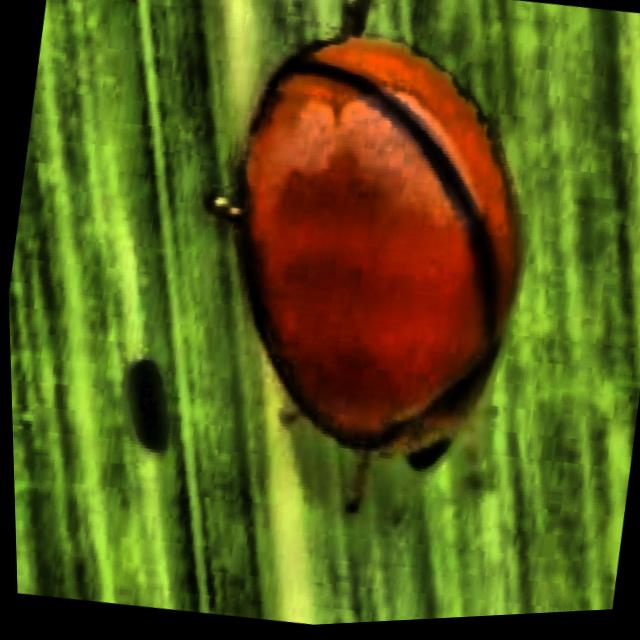Ladybug: (107, 0, 638, 636)
